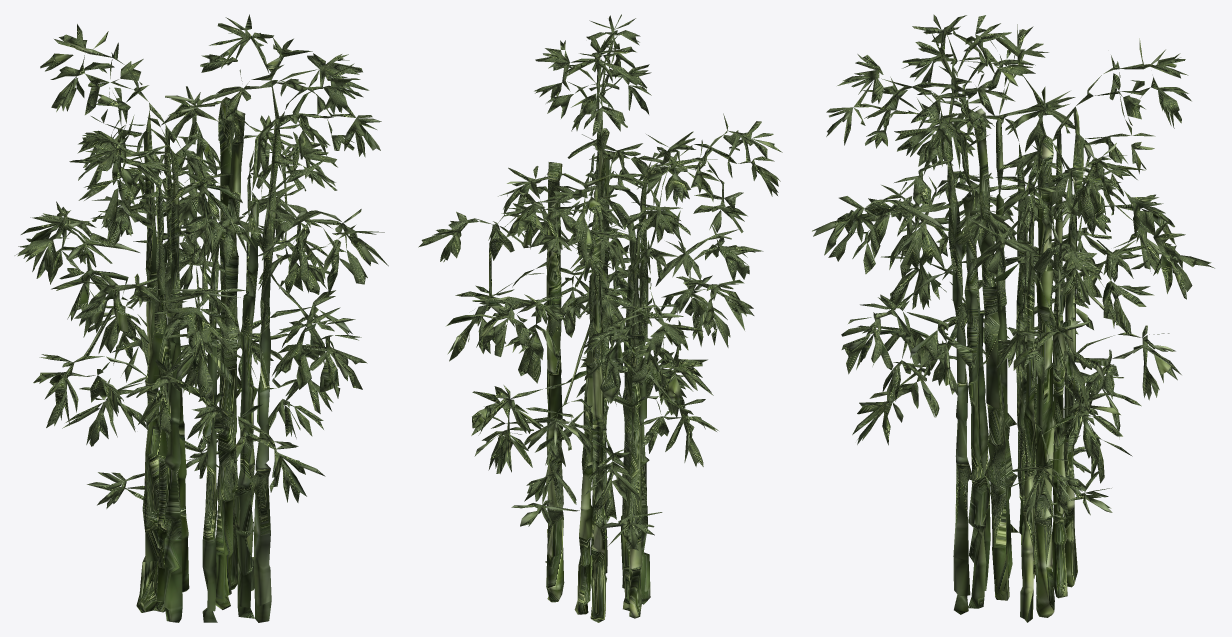
Rendered from bamboo-mid.glb.
The picture shows the model from 3 angles, left to right: view 1: azimuth 30°, elevation 25°; view 2: azimuth 150°, elevation 25°; view 3: azimuth 270°, elevation 25°; orthographic projection. The views are drawn at different scales.
Size of the model in its own units: 0.5697 by 0.9995 by 0.6317.
1 material, 1 textured.
